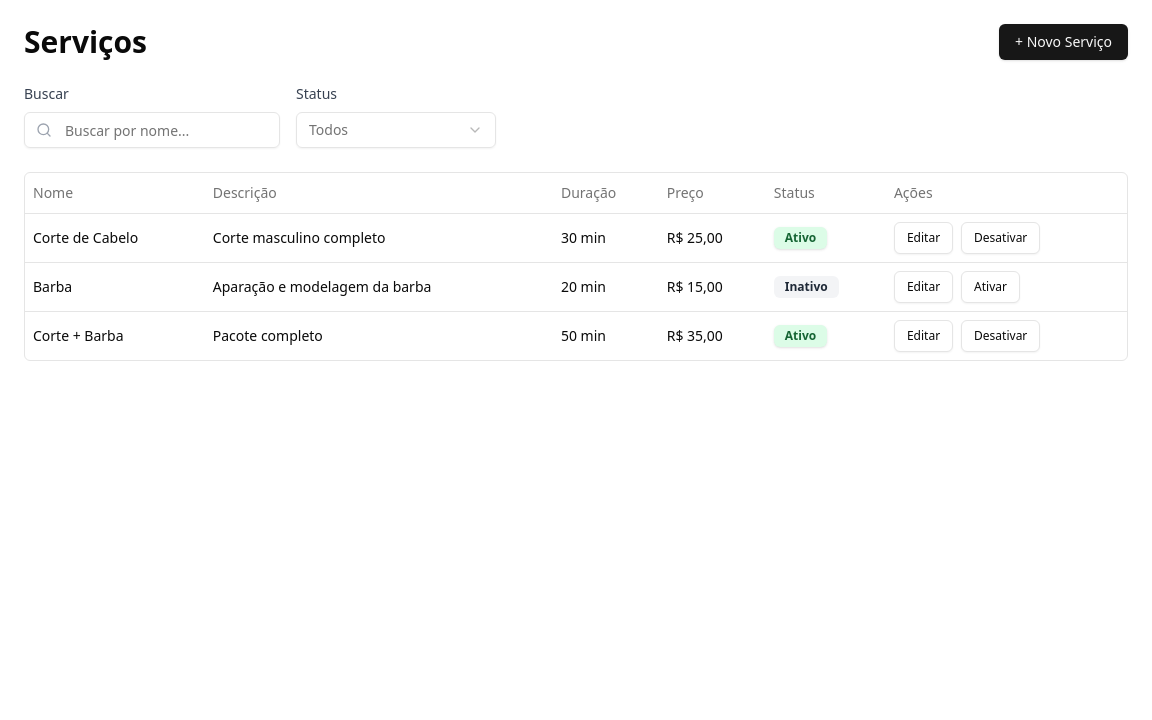
Scenario: ServicesListPage Integration › opens confirmation dialog when toggling service status
Expected: the text "Corte de Cabelo" is shown, [25, 213, 205, 262]
# Find the row containing Corte de Cabelo and click deactivate
Click the button "Desativar" in the row of "Corte de Cabelo": (1001, 238) [961, 222, 1040, 254]
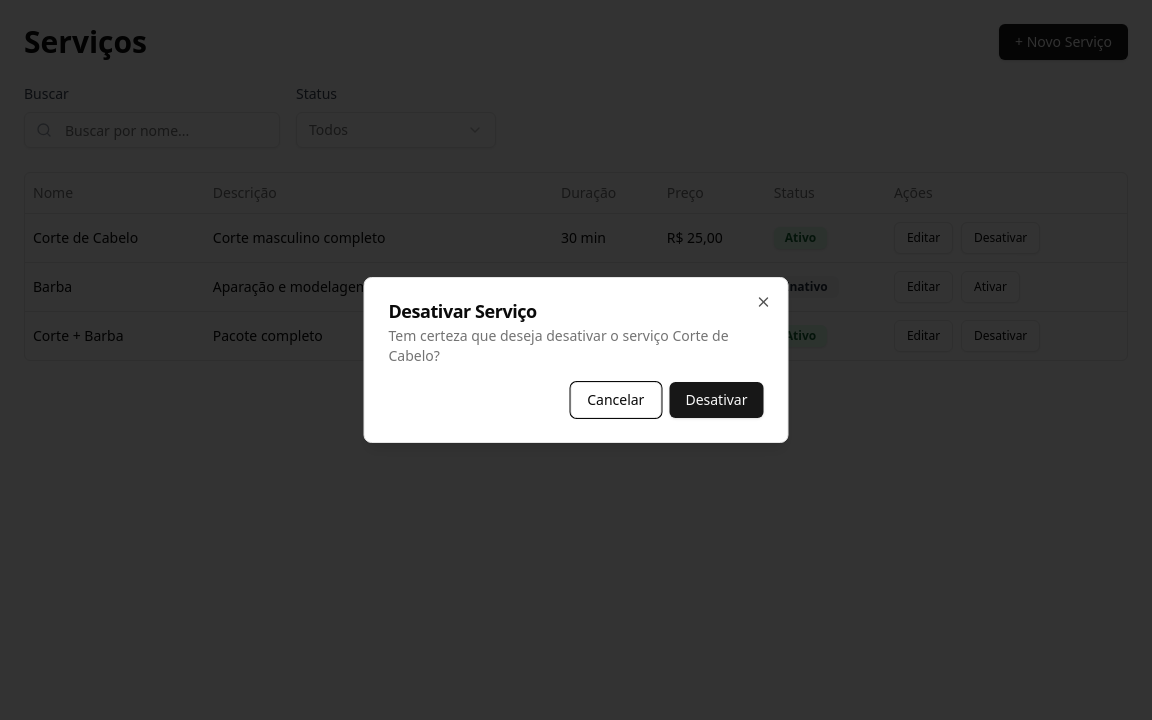
Now the heading "Desativar Serviço" is shown, box [388, 299, 537, 323]
